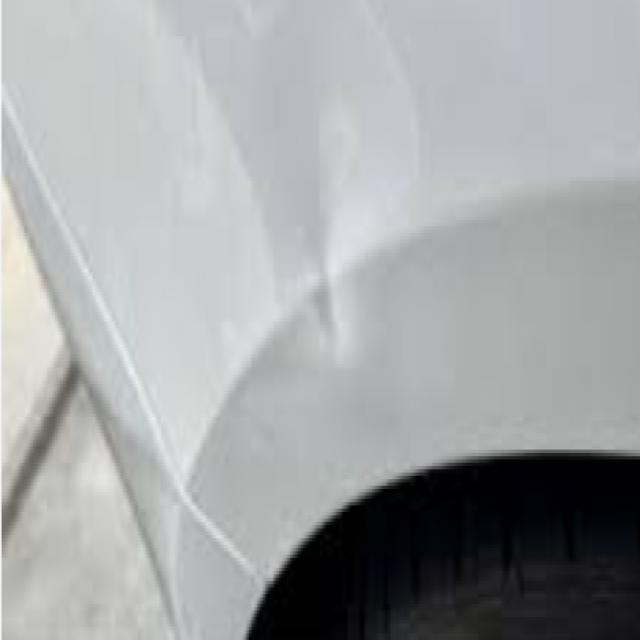dents: (276, 158, 382, 393)
